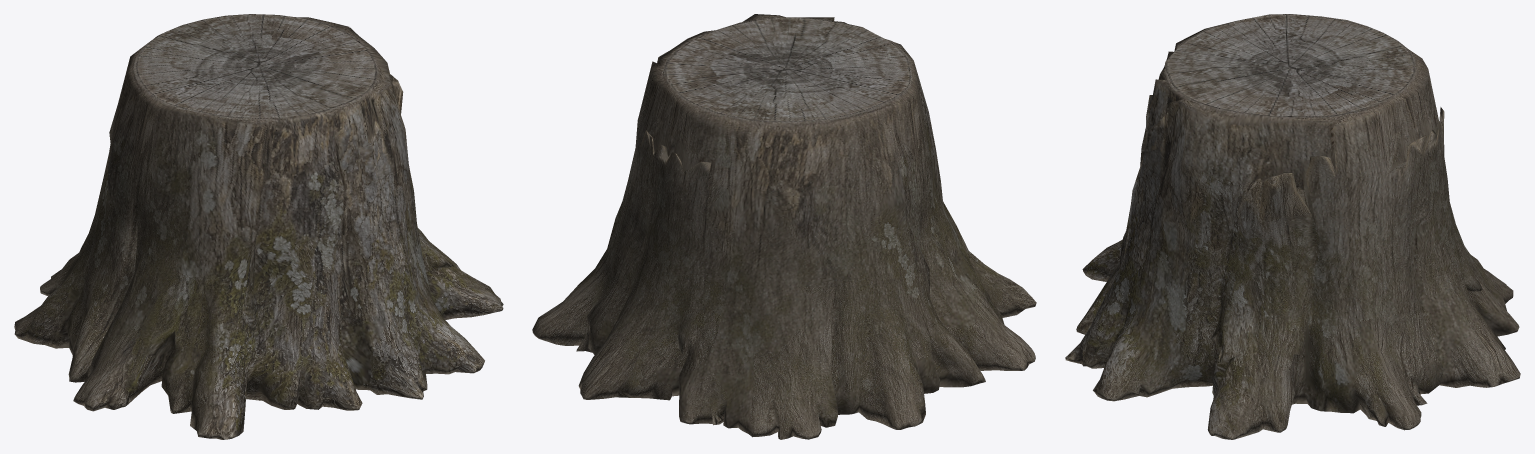
File: stump_b.glb
The picture shows the model from 3 angles, left to right: view 1: azimuth 30°, elevation 25°; view 2: azimuth 150°, elevation 25°; view 3: azimuth 270°, elevation 25°; orthographic projection.
Bounding box in the file's own units: 0.9561 × 0.5747 × 0.8833.
1 material, 1 textured.
